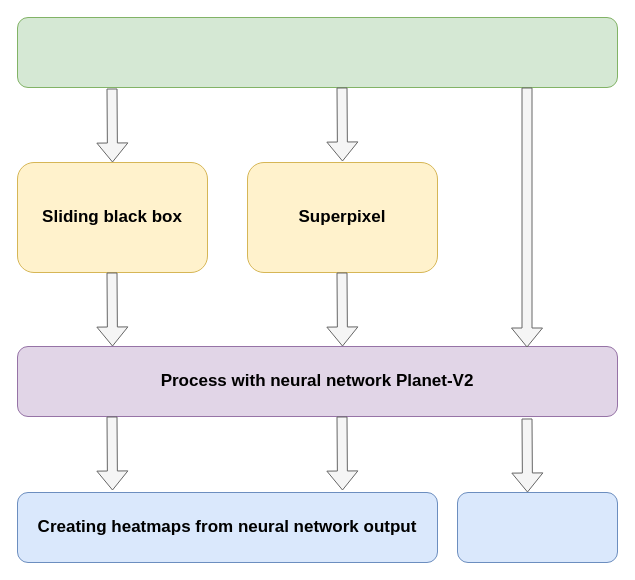
This 635x580 diagram has some shape labels left out. The shapes that lost their labels are listed below. From the top down, each one's centre as x and y in pixels, then its label:
(317,52): Select raw image
(537,527): Create geoplots
